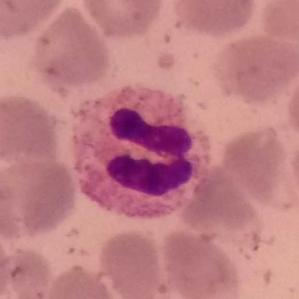Neutrophil: (71, 85, 215, 227)
Platelets: (154, 48, 181, 77)
RBC: (28, 2, 114, 92), (0, 154, 80, 240), (218, 122, 296, 206), (210, 31, 298, 105), (157, 226, 244, 299), (176, 174, 265, 244), (96, 227, 167, 298), (0, 90, 64, 166), (78, 0, 168, 41), (168, 0, 258, 38), (42, 262, 127, 299), (1, 244, 54, 299), (0, 0, 69, 40), (255, 0, 299, 44), (283, 62, 299, 143), (0, 217, 14, 299), (286, 126, 299, 212)
